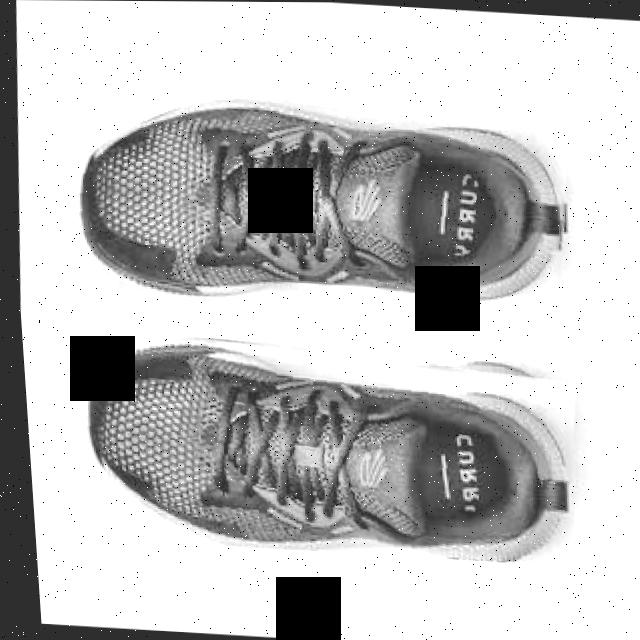shoe: (73, 89, 577, 319), (75, 331, 577, 557), (76, 338, 568, 561), (75, 96, 560, 305)
